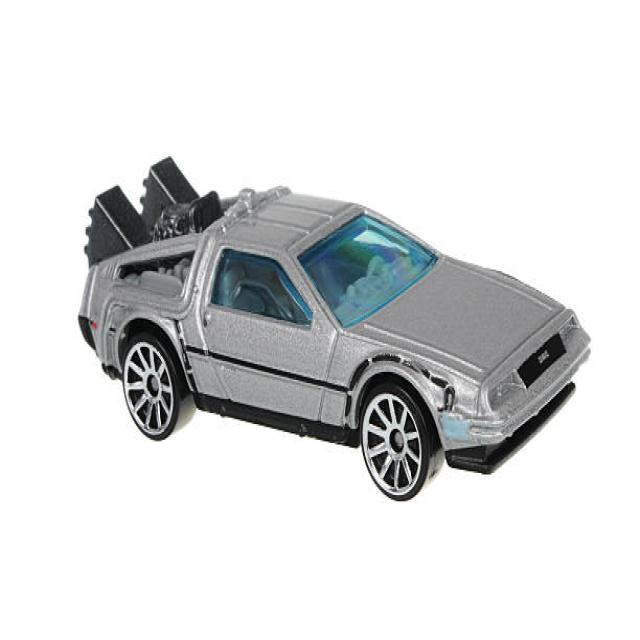Car: (77, 178, 591, 501)
